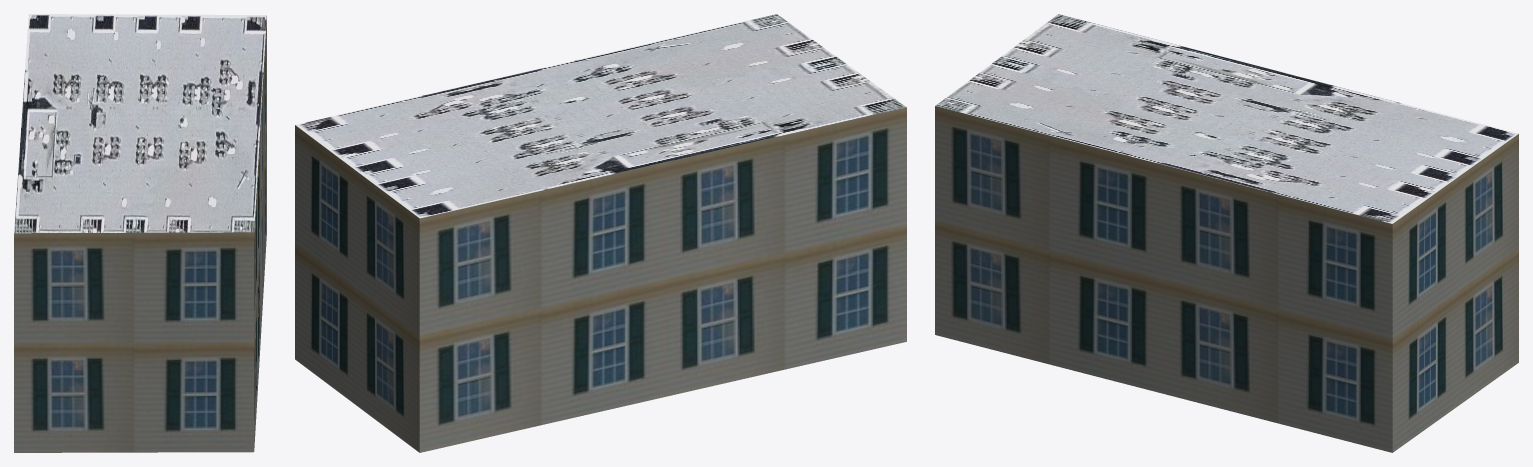
Rendered from ResTex__5097.fbx.
3 renders of one model, left to right at view 1: azimuth 30°, elevation 25°; view 2: azimuth 150°, elevation 25°; view 3: azimuth 270°, elevation 25°, orthographic. The views are drawn at different scales.
Visible parts, largest first — view 1: CityEngineMaterial_7_m, CityEngineMaterial_4_m; view 2: CityEngineMaterial_7_m, CityEngineMaterial_4_m; view 3: CityEngineMaterial_7_m, CityEngineMaterial_4_m.
Part boxes in pixels (bbox=[...]): CityEngineMaterial_7_m: bbox=[14, 16, 266, 452]; CityEngineMaterial_4_m: bbox=[14, 14, 266, 233]; CityEngineMaterial_7_m: bbox=[295, 107, 906, 452]; CityEngineMaterial_4_m: bbox=[295, 14, 906, 218]; CityEngineMaterial_7_m: bbox=[935, 106, 1518, 452]; CityEngineMaterial_4_m: bbox=[935, 14, 1518, 223].
Size of the model in its own units: 11.8 by 6 by 13.86.
2 materials, 2 textured.
